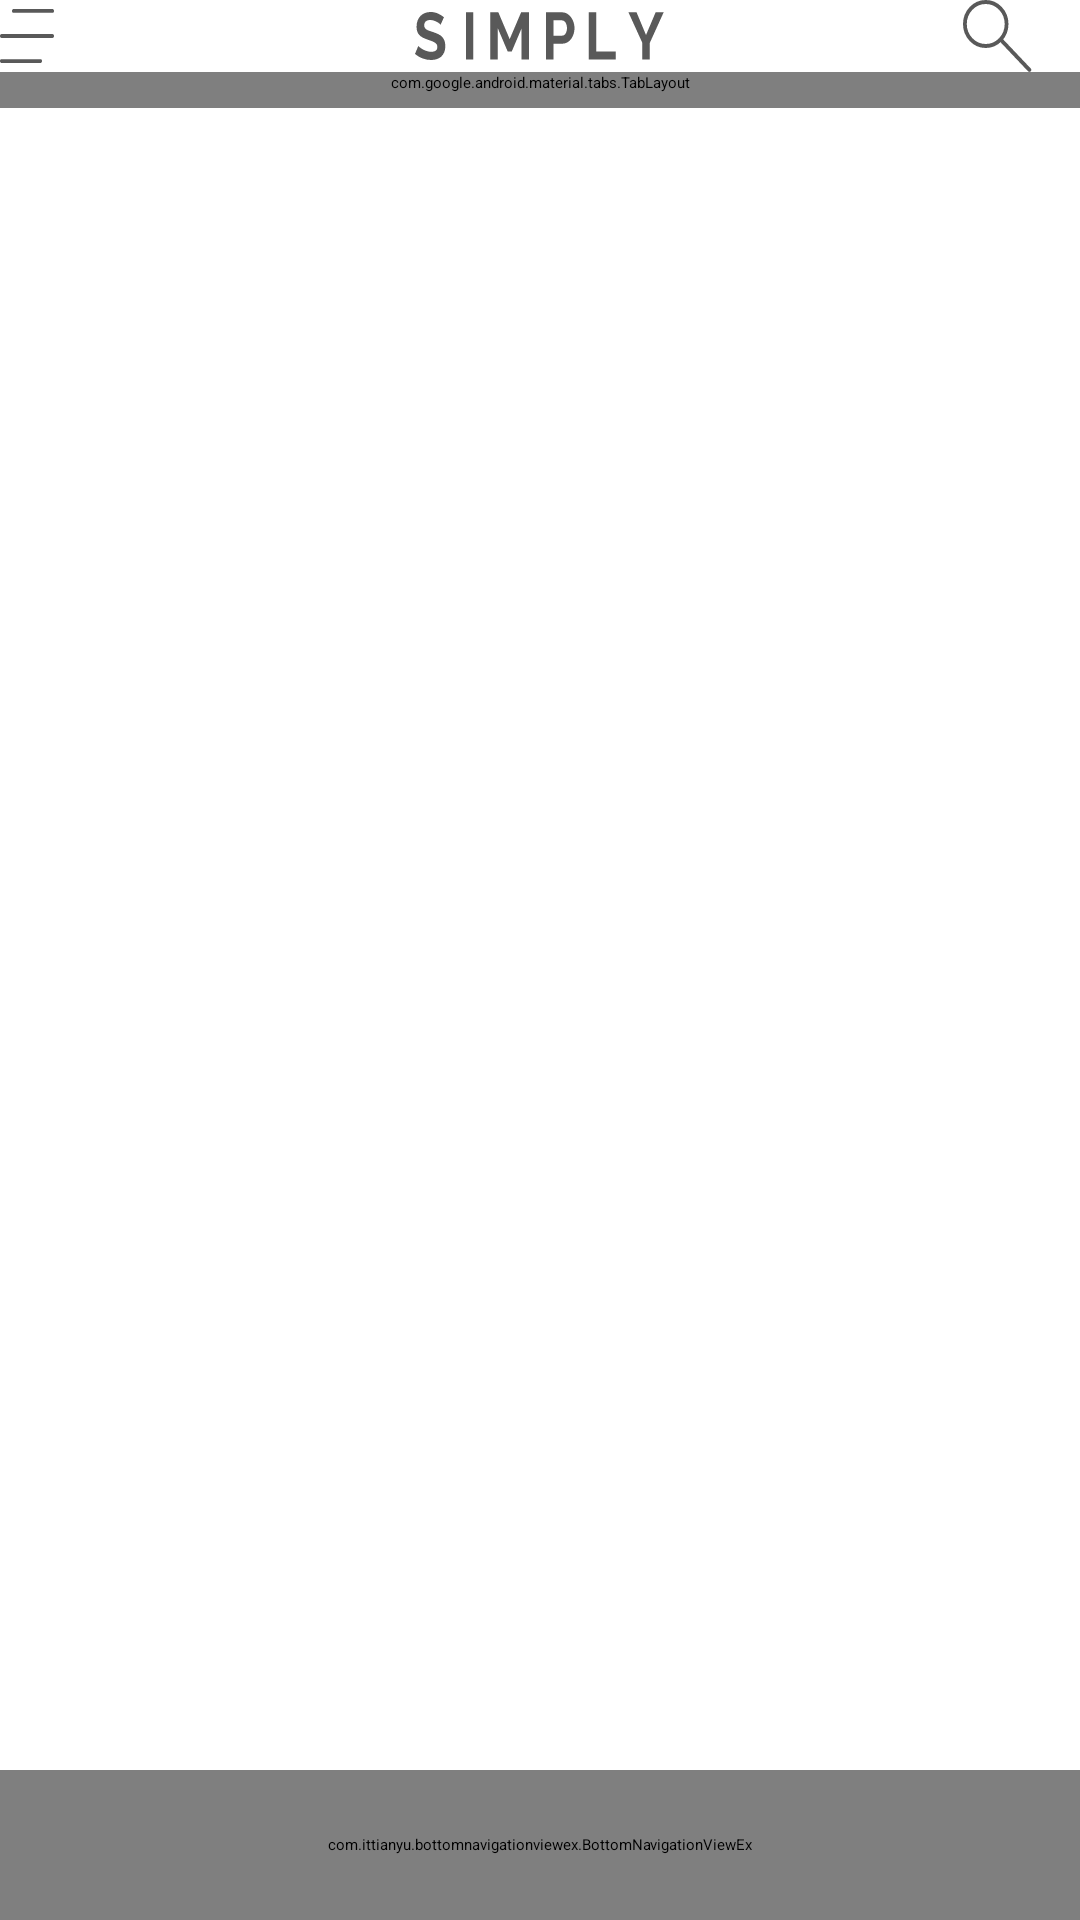

Point at icon controls on the screen. Image size 1080px×1920px, points as [x,y].
menu: [27,36]
search: [997,36]
